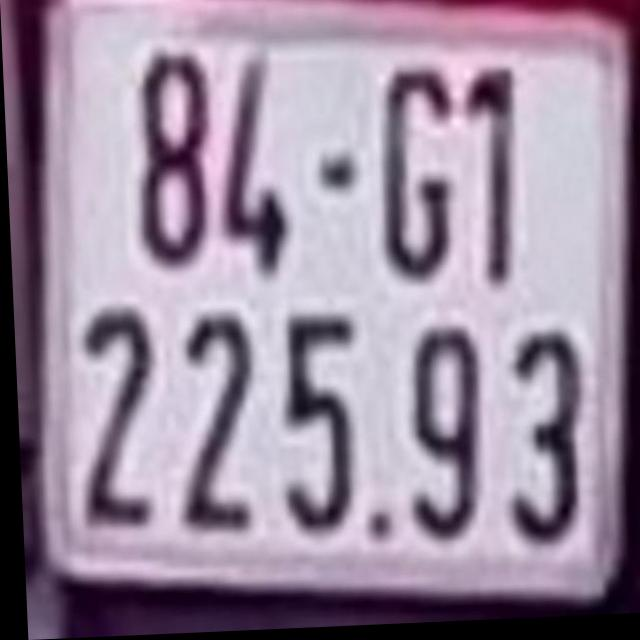1: (462, 67, 521, 296)
2: (76, 309, 149, 534), (175, 315, 247, 537)
3: (508, 333, 581, 559)
4: (223, 53, 289, 284)
5: (274, 305, 360, 537)
8: (133, 55, 206, 273)
9: (400, 327, 478, 542)
G: (379, 67, 455, 290)
